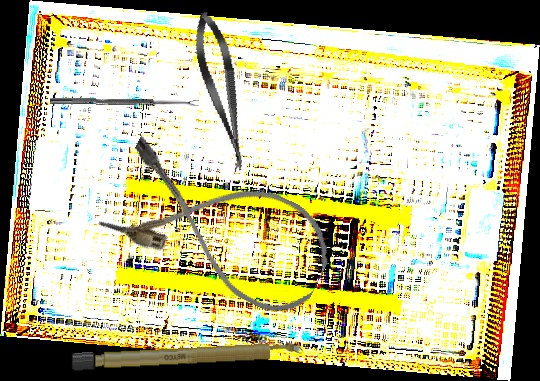Cannula: (96, 129, 345, 326)
Micro Scissor: (187, 8, 257, 175)
Scalpel Handle: (68, 340, 307, 372)
Surgical Spoon: (49, 97, 200, 108)
